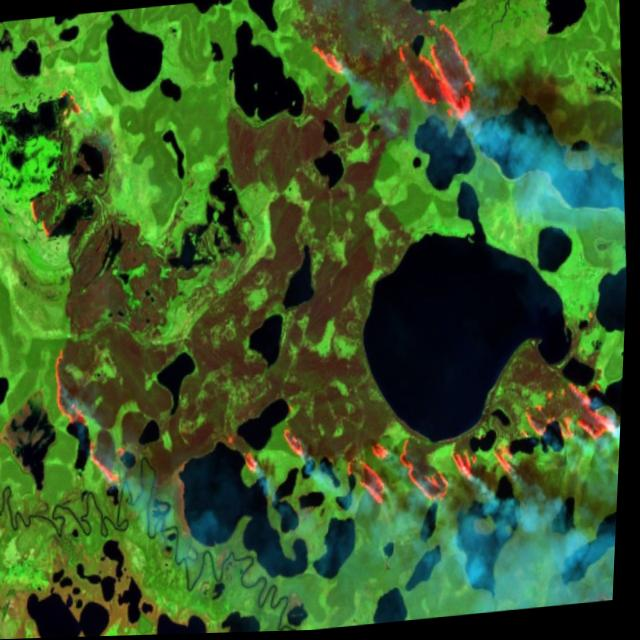fire: (45, 294, 629, 548), (298, 0, 497, 140), (24, 175, 72, 256), (40, 77, 96, 143)
